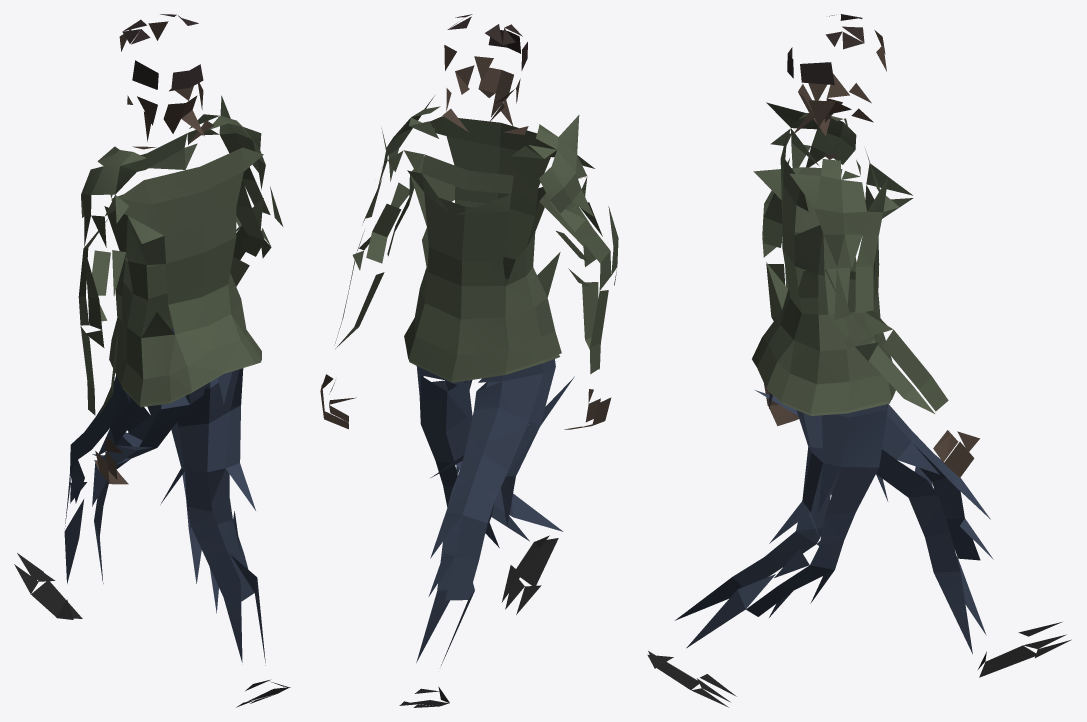
File: personfar_1_w1.fbx
3 renders of one model, left to right at view 1: azimuth 30°, elevation 25°; view 2: azimuth 150°, elevation 25°; view 3: azimuth 270°, elevation 25°, orthographic. The views are drawn at different scales.
Parts seen in each view (by area): view 1: BaseHuman; view 2: BaseHuman; view 3: BaseHuman.
Part boxes in pixels (x1,y1,x2,y2): BaseHuman: (14, 14, 290, 707); BaseHuman: (320, 14, 618, 707); BaseHuman: (647, 14, 1071, 707).
Bounding box in the file's own units: 0.3499 × 0.9769 × 0.5597.
